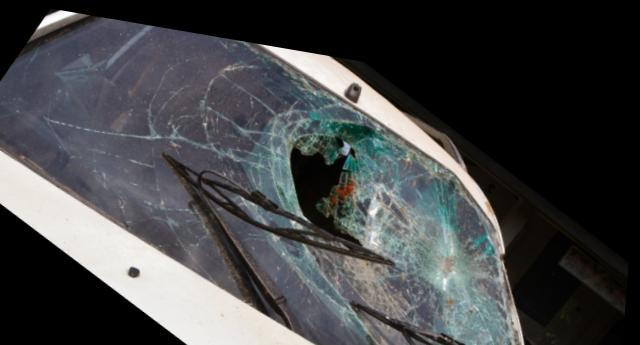glass shatter: (0, 12, 518, 345)
